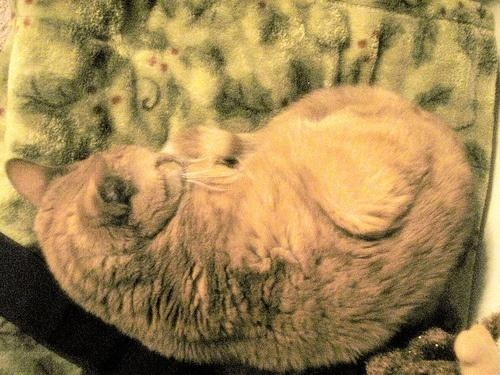cat: (8, 84, 491, 373)
